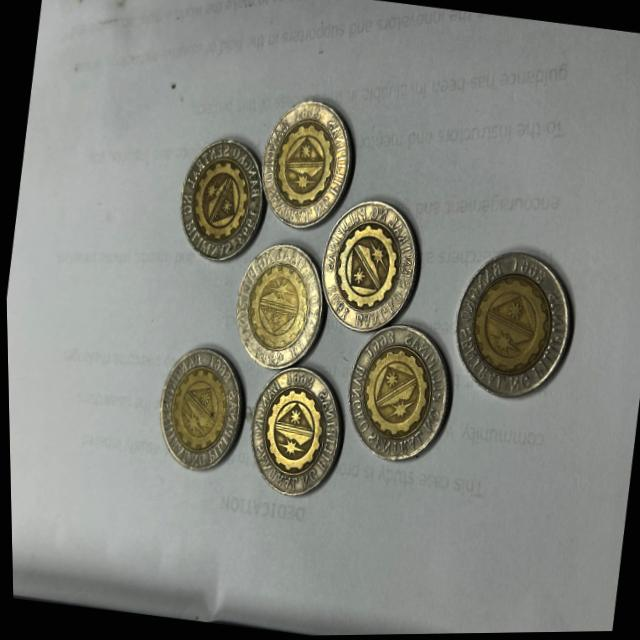10_Old_Back: (448, 251, 564, 394), (235, 363, 351, 499), (337, 329, 453, 464), (258, 93, 358, 238), (316, 197, 417, 336), (147, 346, 242, 485), (167, 139, 268, 266), (224, 245, 325, 371)
